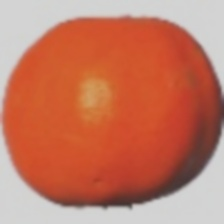tangerine: (14, 38, 178, 224)
